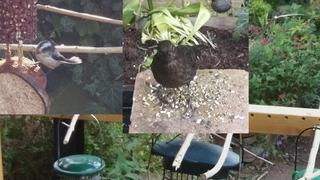blackbird: (150, 40, 209, 114)
long tailed tit: (31, 40, 83, 76)
